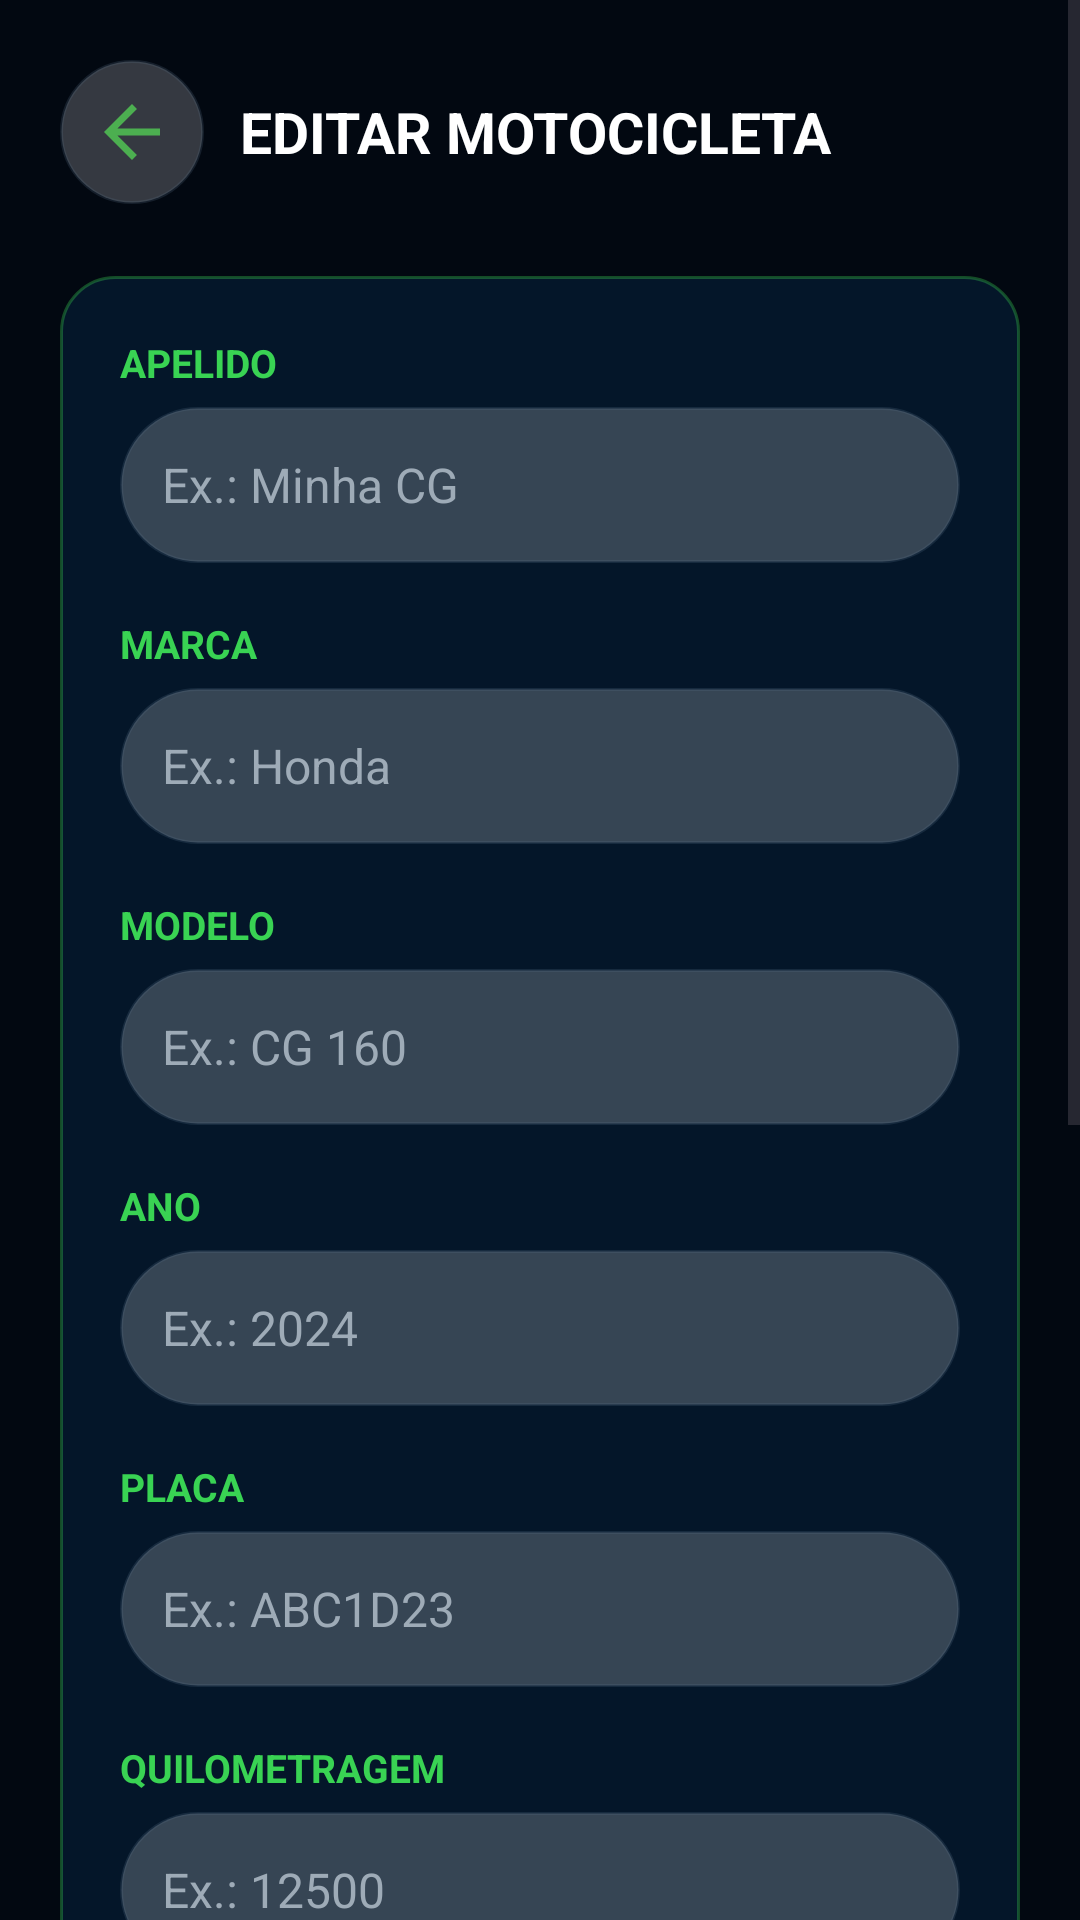

Icons on this 1080px x 1920px Android screen, each with the point to tap as (x=x, y=y):
Voltar: (x=131, y=132)
